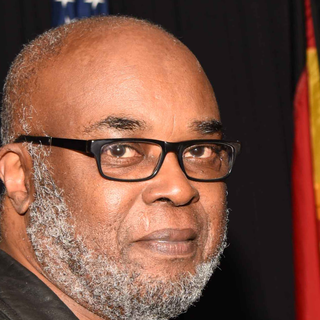eye: (96, 136, 145, 164), (181, 140, 221, 164)
